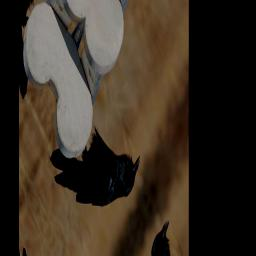Crow: (46, 55, 144, 256)
